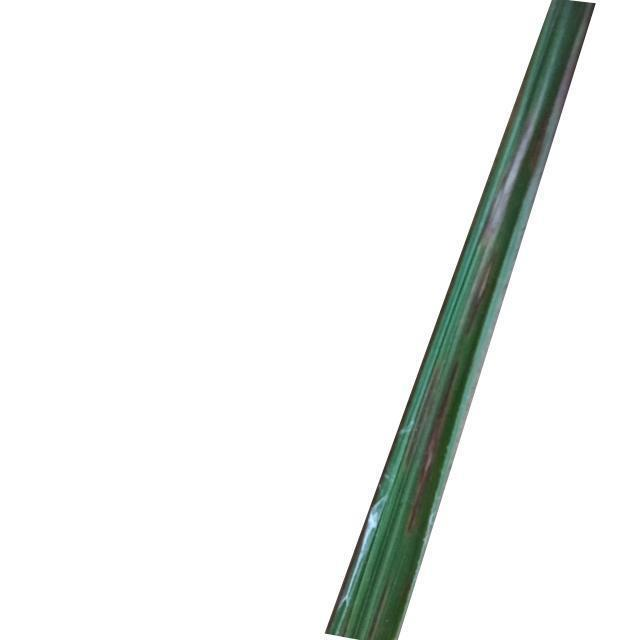Bacterial_Leaf_Blight: (400, 94, 555, 540)
